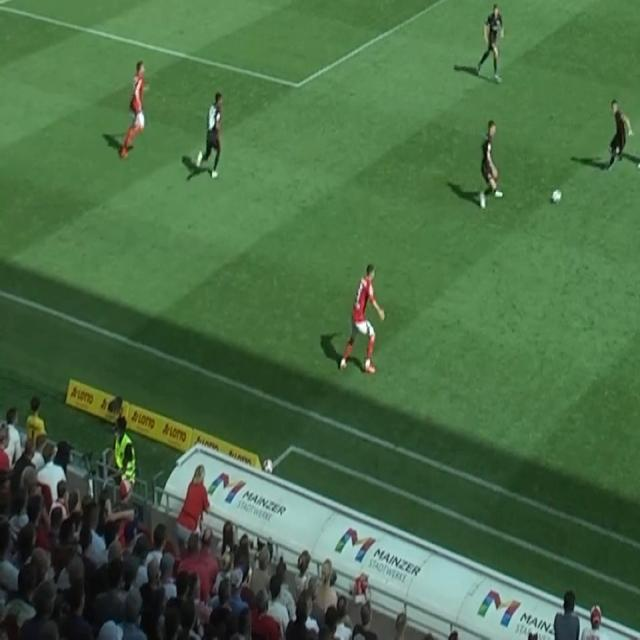ball: (551, 188, 562, 204)
